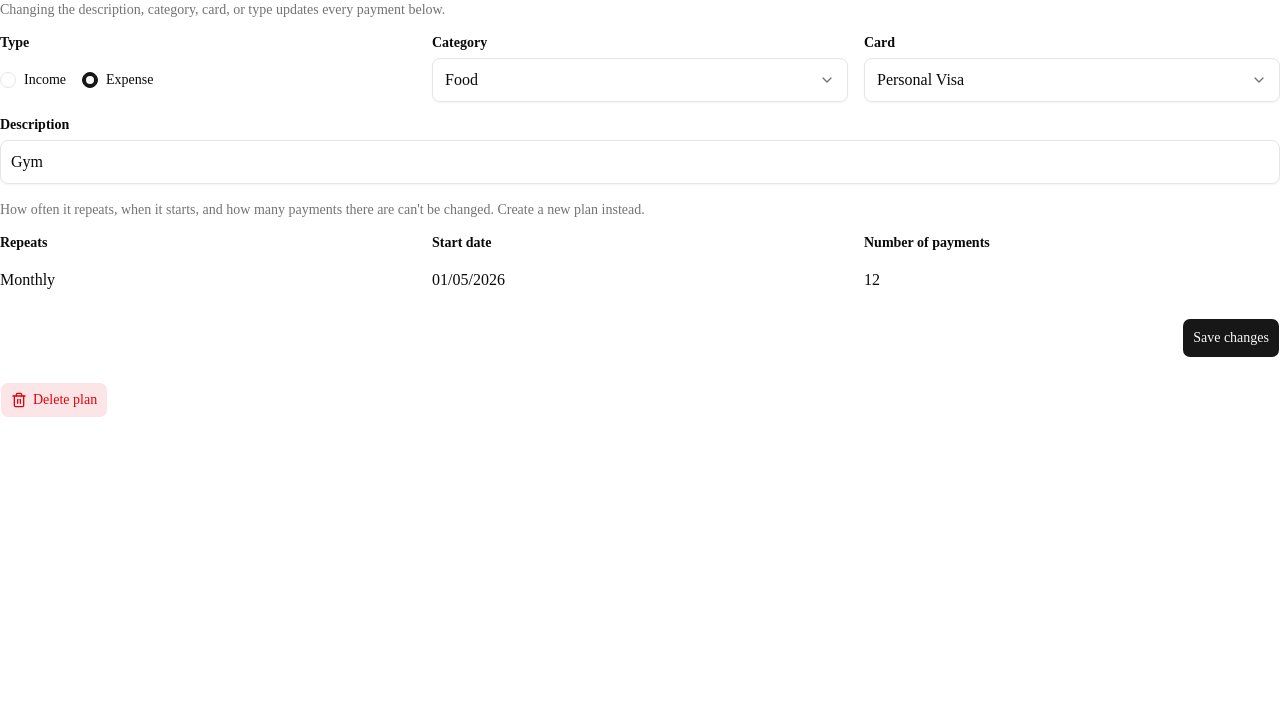
InstallmentSeriesForm › shows the delete action's error and keeps the dialog open
Click the button "Delete plan": (54, 400) [0, 382, 108, 418]
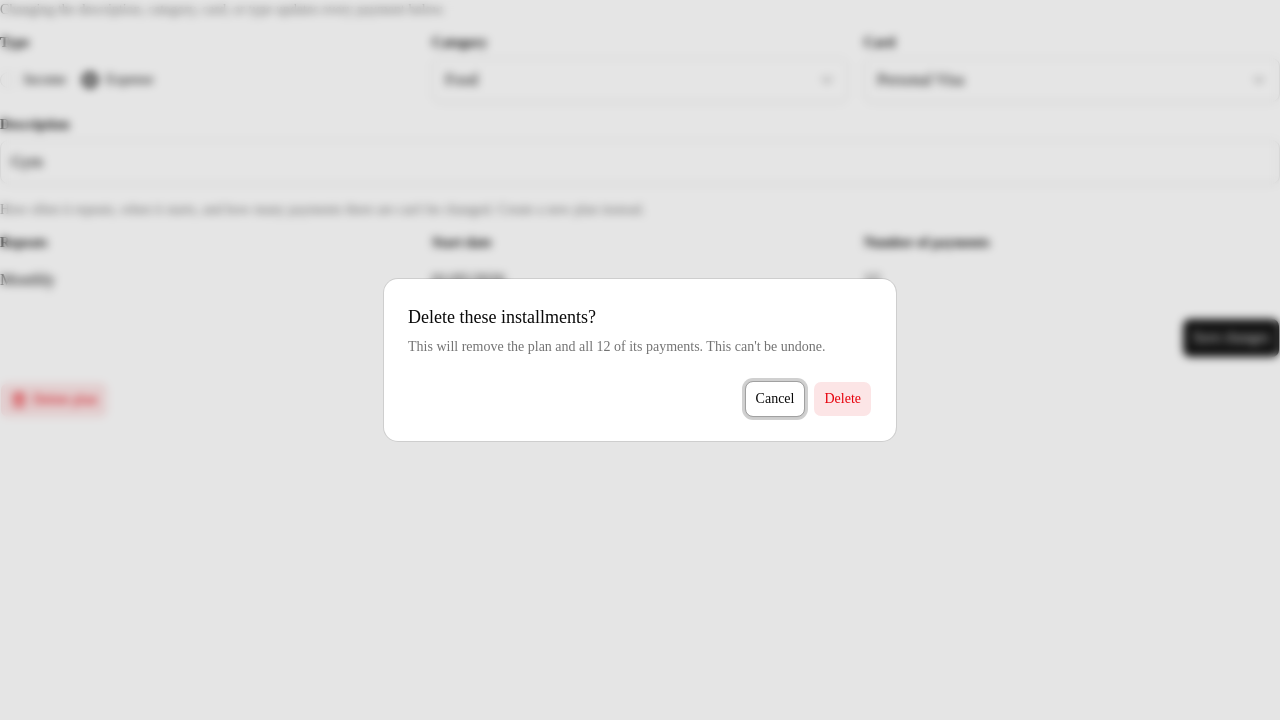
Click the button "Delete": (843, 399) [814, 381, 872, 417]
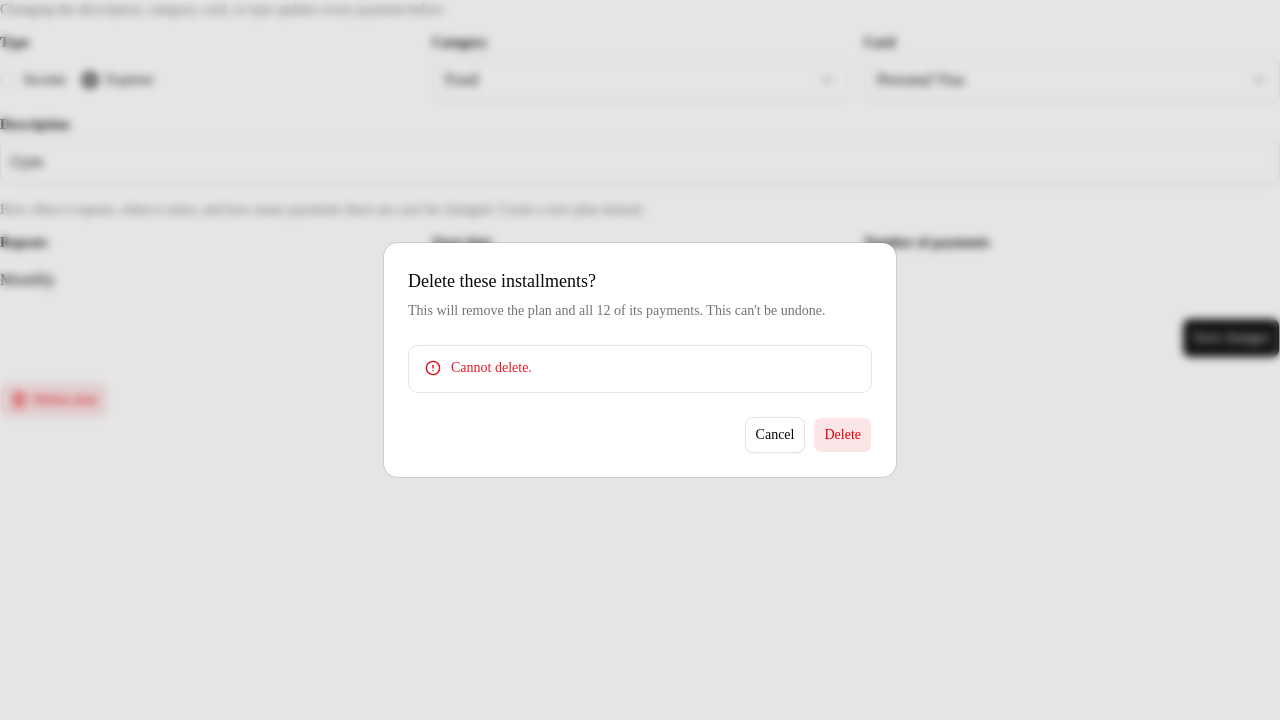
Expected: the text "Cannot delete." is shown, [451, 360, 532, 375]
